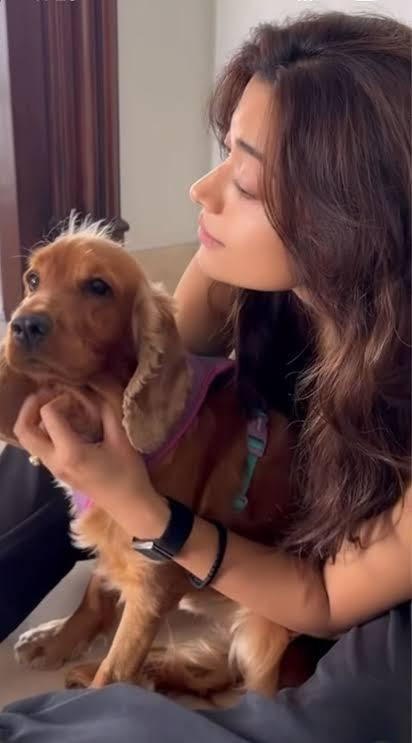adult_dog: (0, 215, 299, 716)
